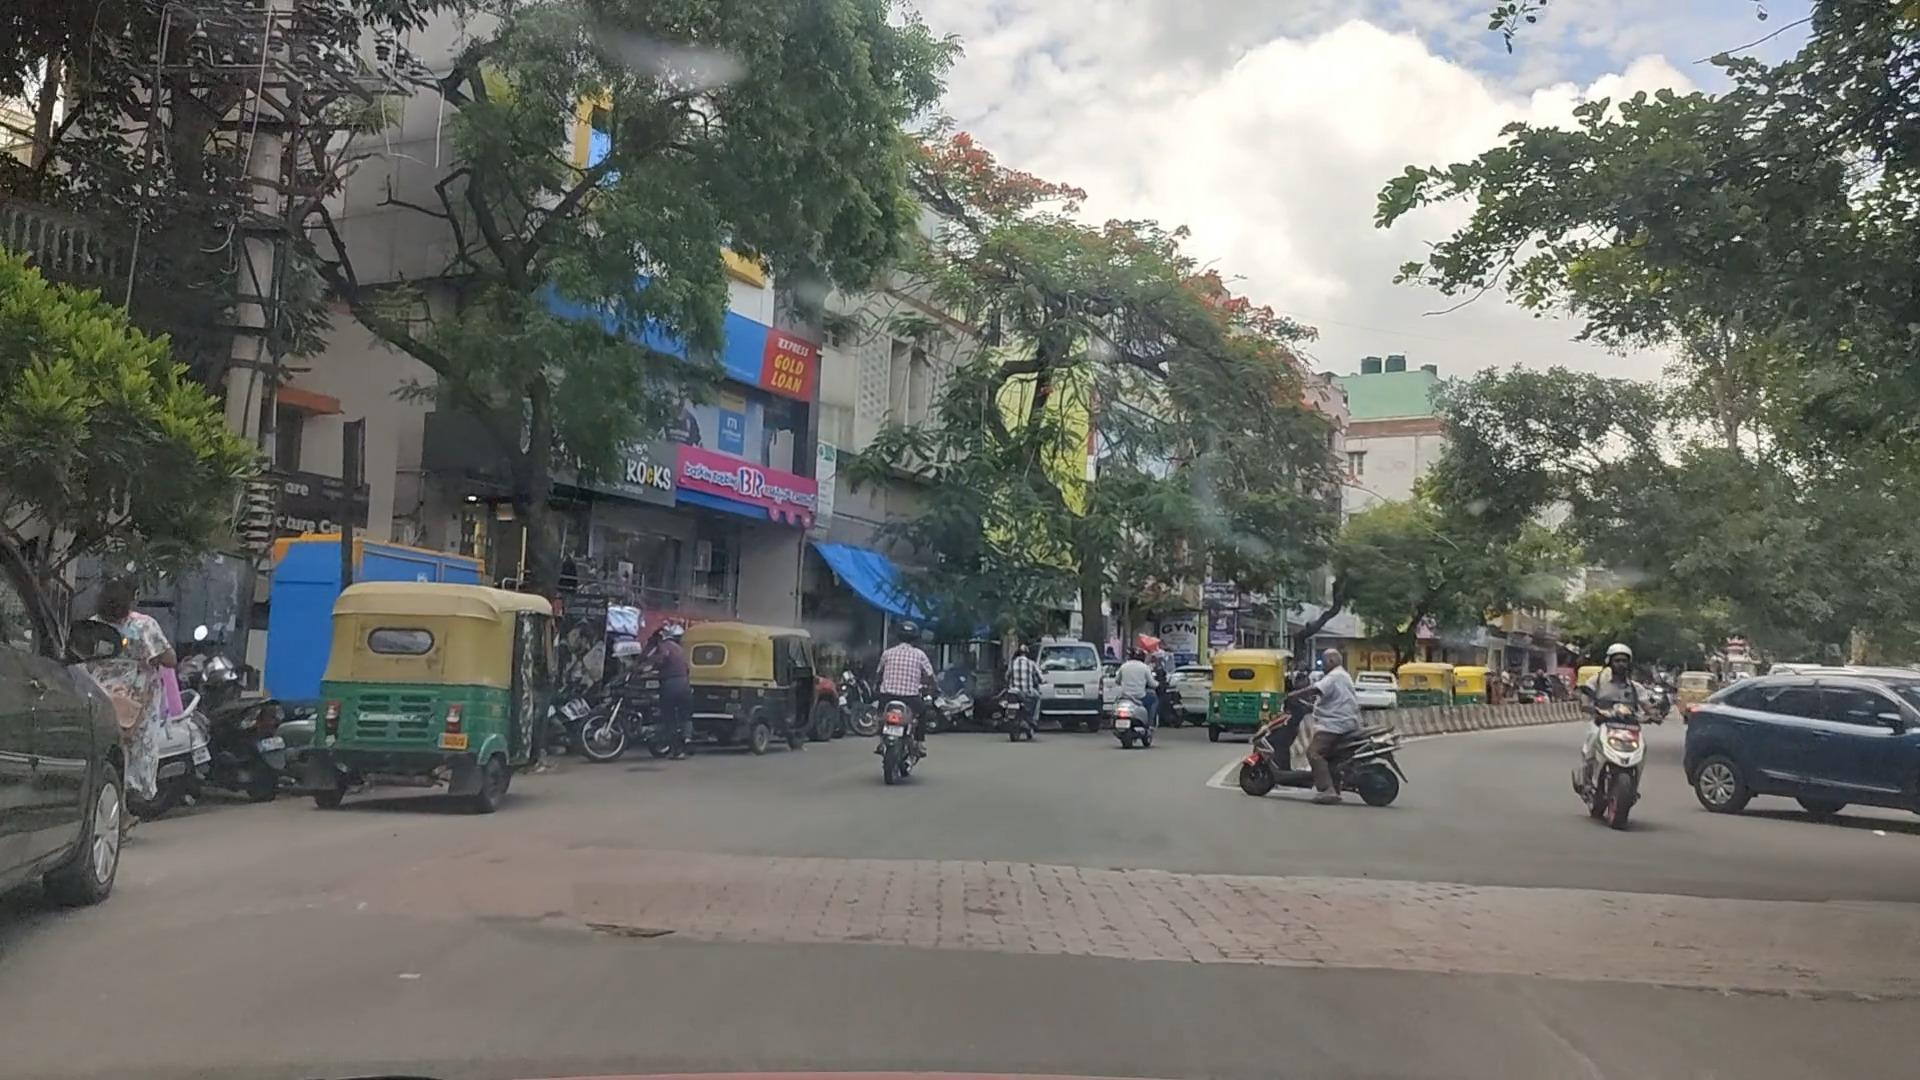LMV: (326, 596, 547, 802), (0, 541, 117, 905), (853, 630, 942, 794)
SpeedBump: (301, 833, 1336, 1056)
